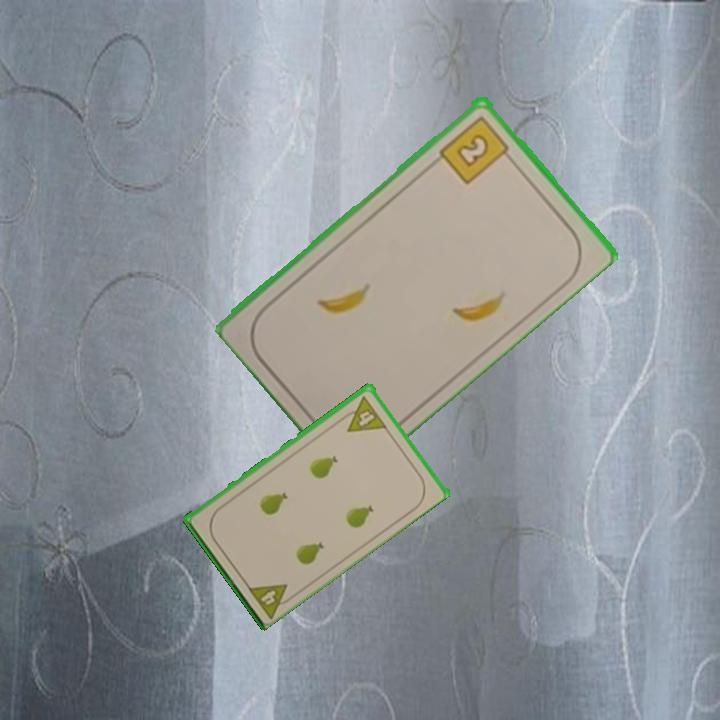2b: (435, 111, 516, 187)
4p: (337, 392, 389, 435), (244, 579, 298, 620)
